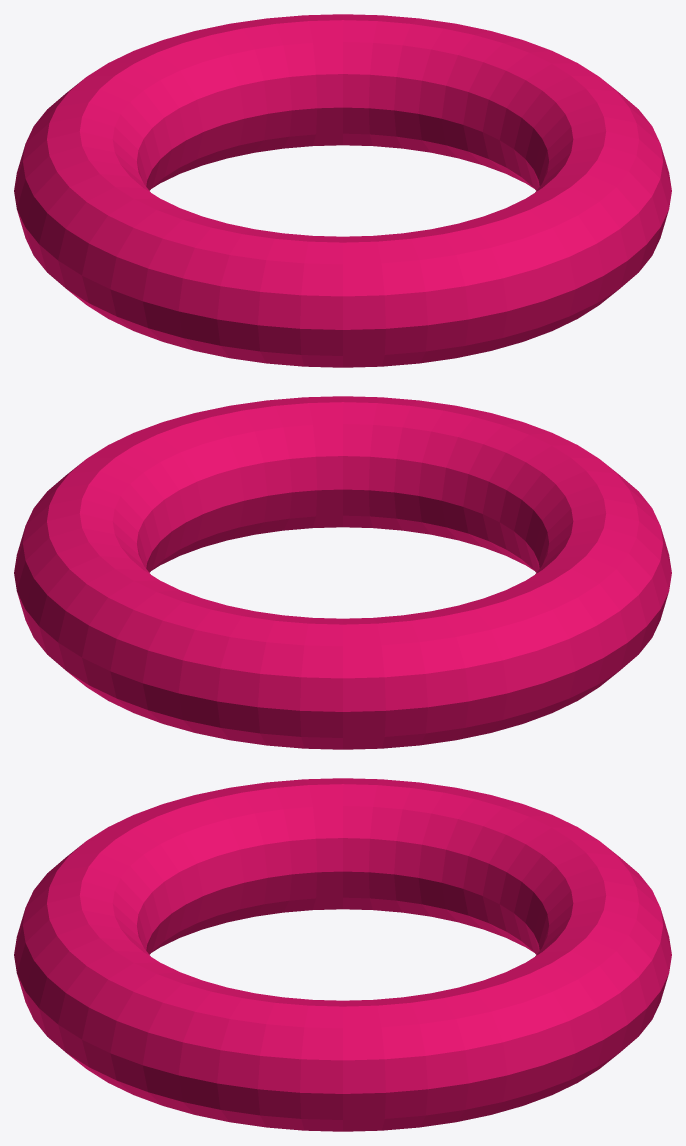
The model's file is davidCubeA1.gltf.
3 renders of one model, top to bottom at view 1: azimuth 30°, elevation 25°; view 2: azimuth 150°, elevation 25°; view 3: azimuth 270°, elevation 25°, orthographic.
Parts seen in each view (by area): view 1: davidCubeA1; view 2: davidCubeA1; view 3: davidCubeA1.
Boxes of the visible parts, box(x1,y1,x2,y2) form: davidCubeA1: box(14, 14, 671, 367); davidCubeA1: box(14, 396, 671, 749); davidCubeA1: box(14, 778, 671, 1131).
Size of the model in its own units: 1.23 by 0.2455 by 1.23.
